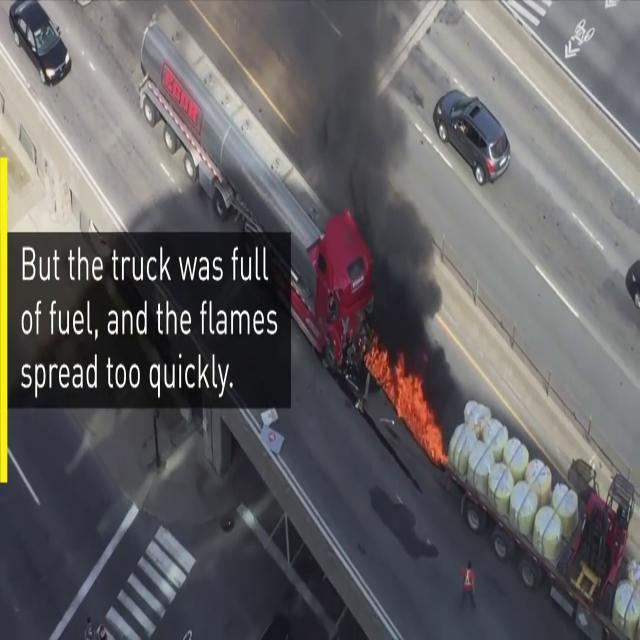Fire: (363, 332, 443, 458)
Smoke: (288, 0, 440, 342)
